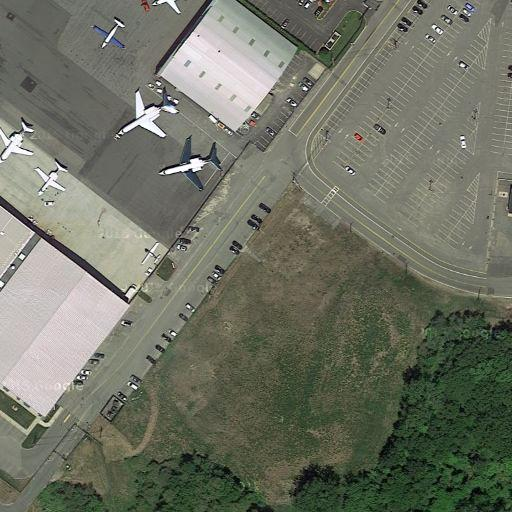plane: (109, 82, 182, 145), (158, 131, 227, 193), (2, 112, 38, 171), (30, 157, 72, 200)
